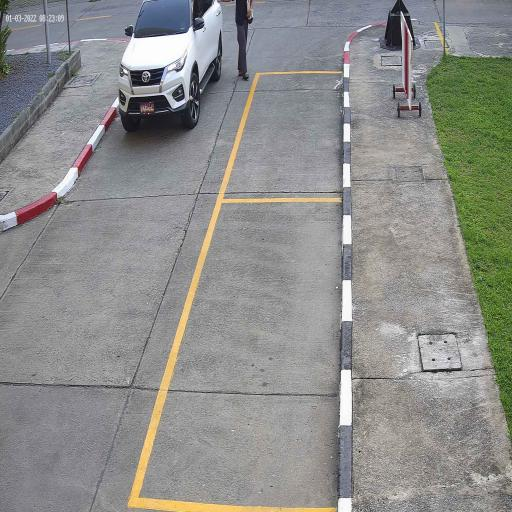car: (116, 0, 224, 131)
